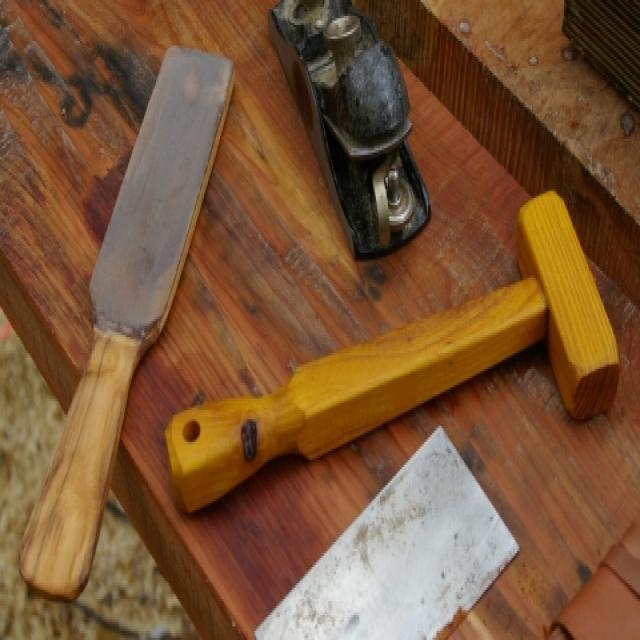hammer: (142, 162, 640, 564)
